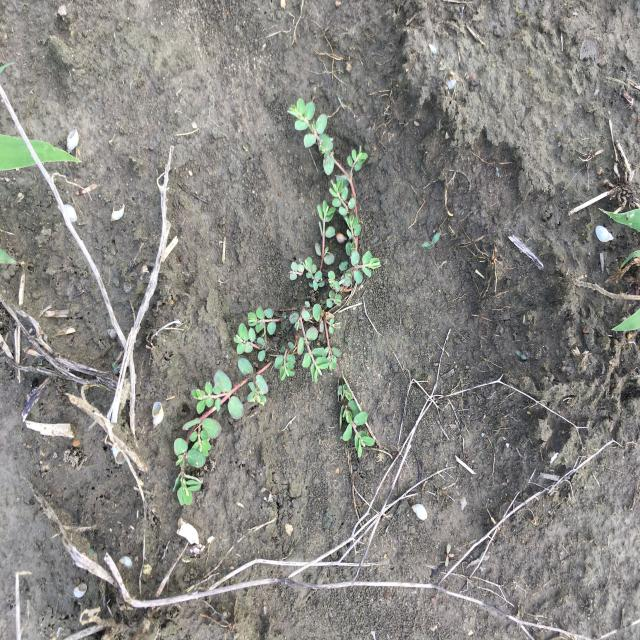SpottedSpurge: (173, 96, 383, 508)
